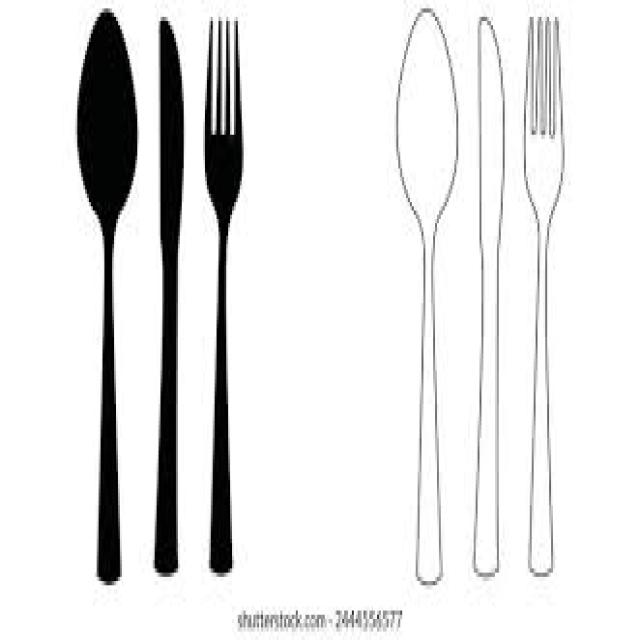Knife: (152, 16, 184, 572)
